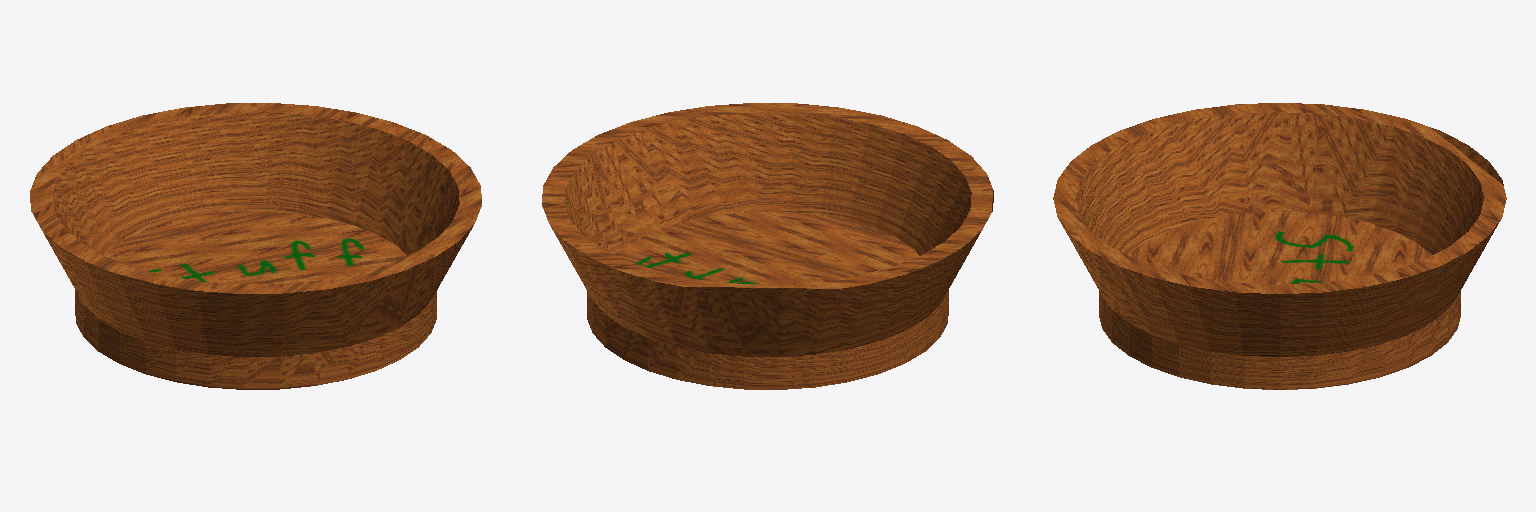
3 renders of one model, left to right at view 1: azimuth 30°, elevation 25°; view 2: azimuth 150°, elevation 25°; view 3: azimuth 270°, elevation 25°, orthographic.
Parts seen in each view (by area): view 1: Cylinder; view 2: Cylinder; view 3: Cylinder.
Boxes of the visible parts, <box> form: Cylinder: <box>30,103,481,389</box>; Cylinder: <box>542,103,993,389</box>; Cylinder: <box>1053,103,1506,389</box>.
Bounding box in the file's own units: 2.5 × 0.7 × 2.5.
1 materials, 1 textured.